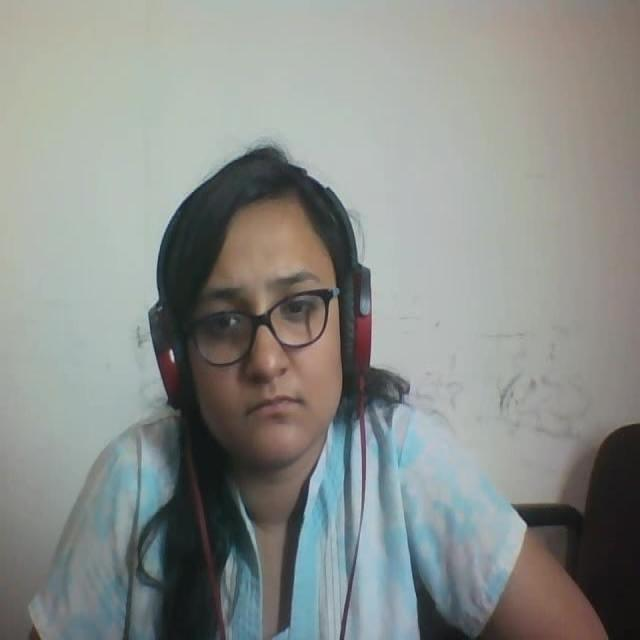Engaged: (133, 116, 440, 504)
